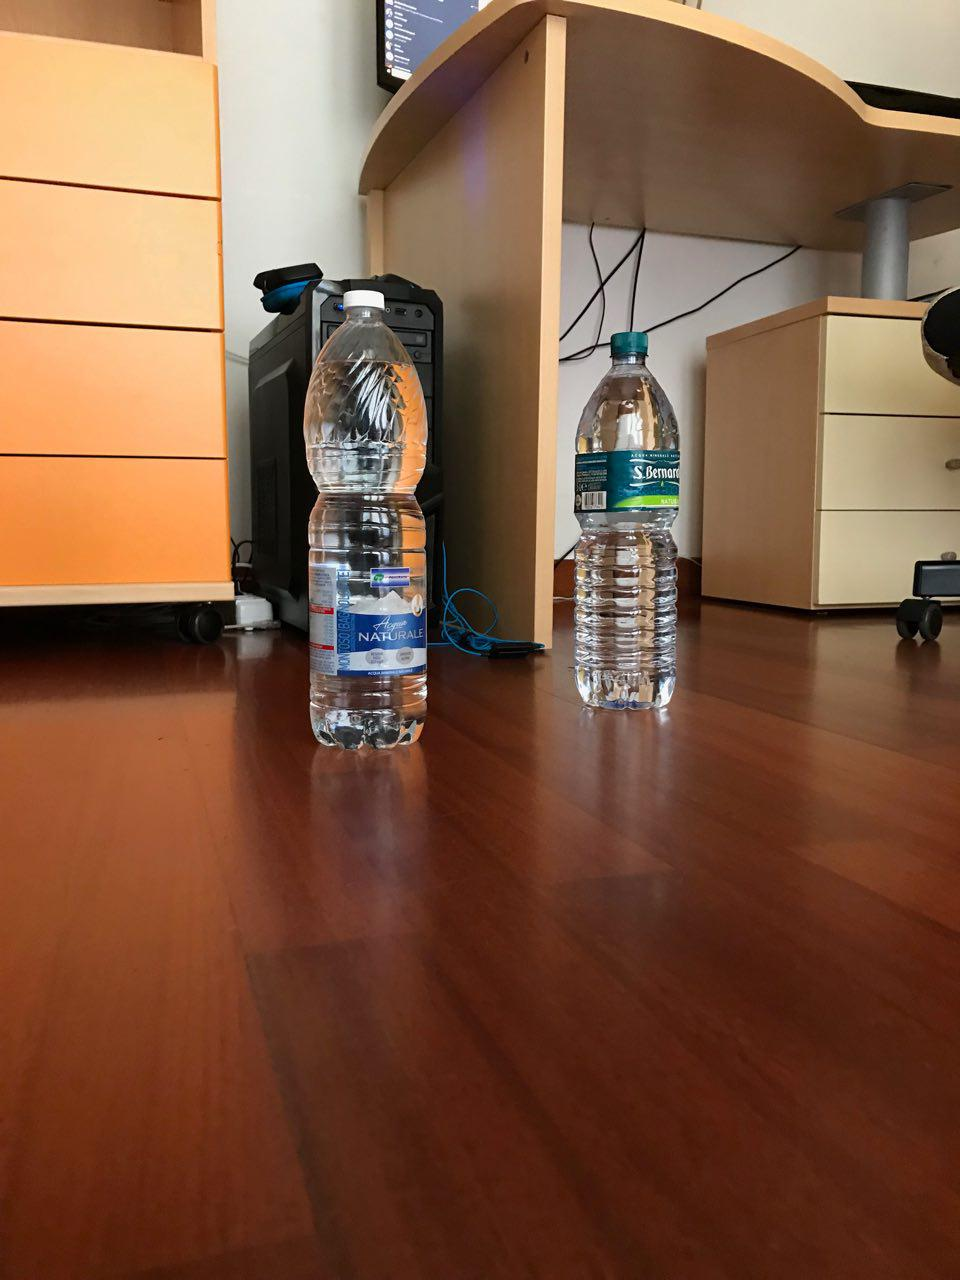san_bernardo: (573, 331, 681, 711)
